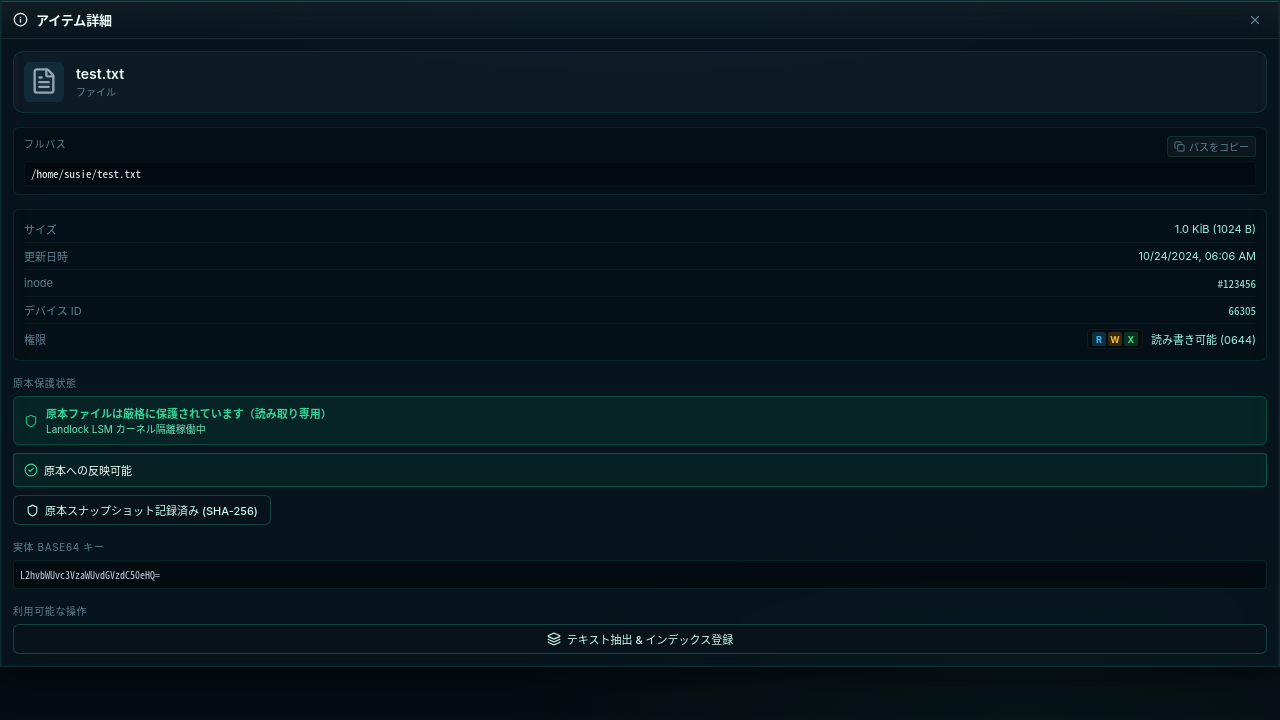
Test: DetailsSidebarPanel & OperationPolicy Integration › evaluates policy and displays safe-to-reflect status in Japanese
Expected: the heading "test.txt" is shown, [76,65,124,82]
Expected: the text "/home/susie/test.txt" is shown, [24,161,1256,186]
Click the button "原本スナップショット記録済み (SHA-256)".
click(142, 510)  # box [13,495,271,525]
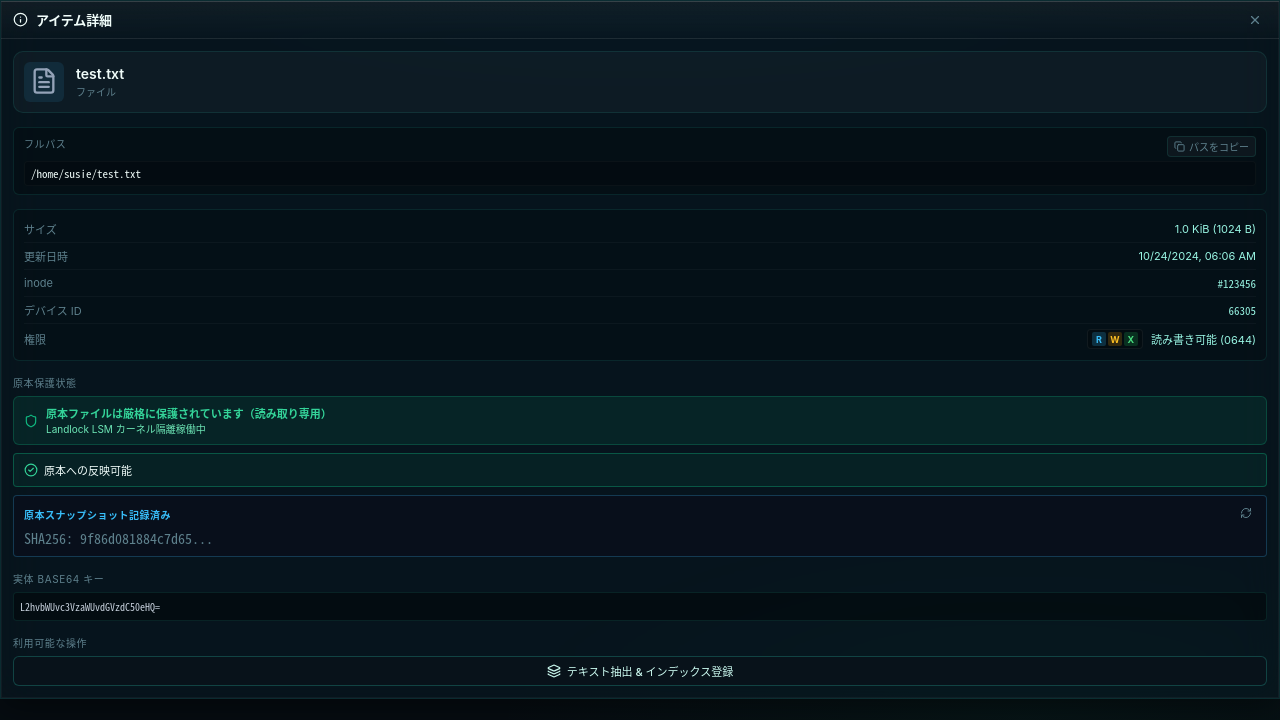
Expected: the text "SHA256: 9f86d081884c7d65..." is shown, [24,528,213,548]
